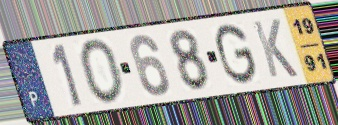1: (49, 42, 85, 110)
6: (128, 33, 171, 99)
8: (168, 28, 213, 93)
G: (214, 21, 260, 87)
K: (250, 17, 301, 80)
O: (78, 37, 126, 106)
